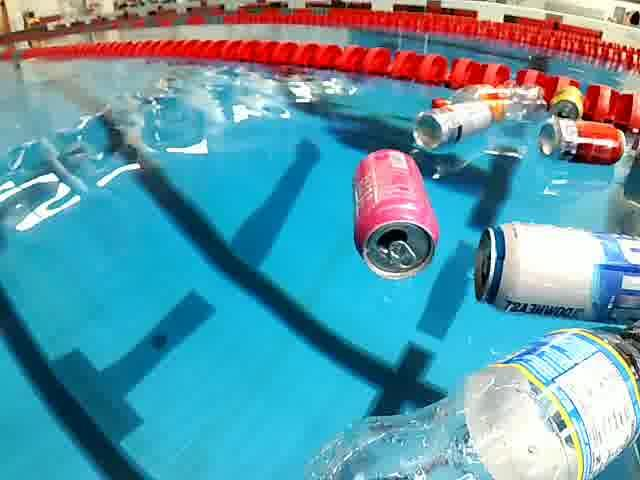Bottle: (292, 314, 639, 480), (429, 80, 552, 118)
Can: (468, 213, 640, 332), (342, 144, 446, 292), (536, 120, 634, 166), (408, 102, 496, 152), (547, 86, 587, 122)
